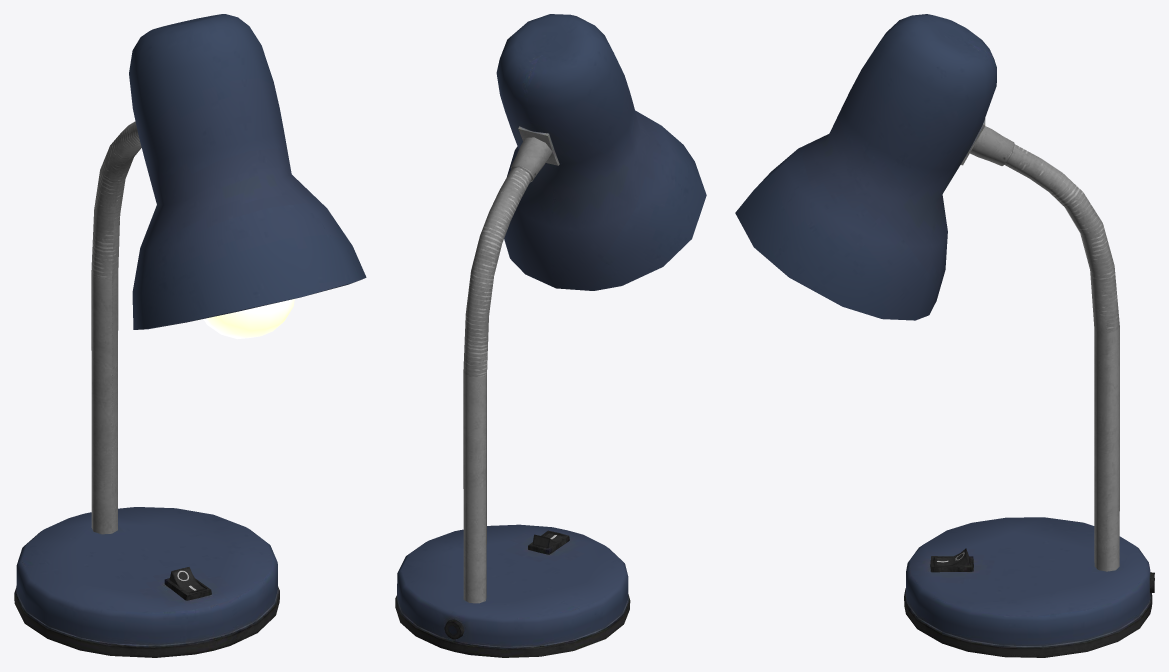
File: luminaria.glb
The picture shows the model from 3 angles, left to right: view 1: azimuth 30°, elevation 25°; view 2: azimuth 150°, elevation 25°; view 3: azimuth 270°, elevation 25°; orthographic projection. The views are drawn at different scales.
Visible parts, largest first — view 1: Luminaria; view 2: Luminaria; view 3: Luminaria.
Part boxes in pixels (bbox=[...]): Luminaria: bbox=[14, 14, 366, 657]; Luminaria: bbox=[395, 14, 706, 657]; Luminaria: bbox=[735, 14, 1154, 657].
Size of the model in its own units: 0.1093 by 0.2864 by 0.1862.
1 material, 1 textured.
